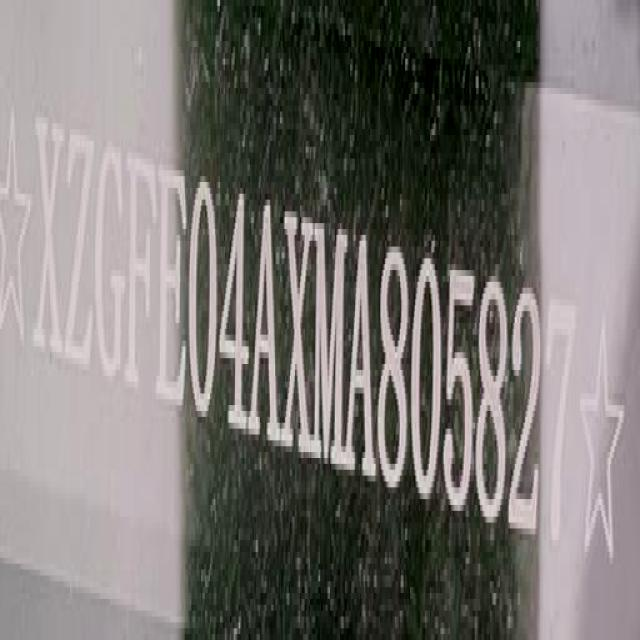0: (413, 248, 443, 504), (190, 172, 219, 427)
2: (510, 283, 543, 546)
4: (220, 188, 250, 441)
5: (445, 256, 476, 514)
7: (544, 288, 575, 554)
8: (379, 243, 411, 497), (476, 270, 508, 523)
A: (349, 227, 376, 484), (254, 195, 280, 449)
E: (156, 161, 184, 419)
F: (127, 153, 157, 404)
G: (95, 134, 127, 392)
M: (315, 215, 347, 474)
X: (282, 204, 315, 465), (38, 110, 66, 374)
Z: (64, 121, 90, 380)
